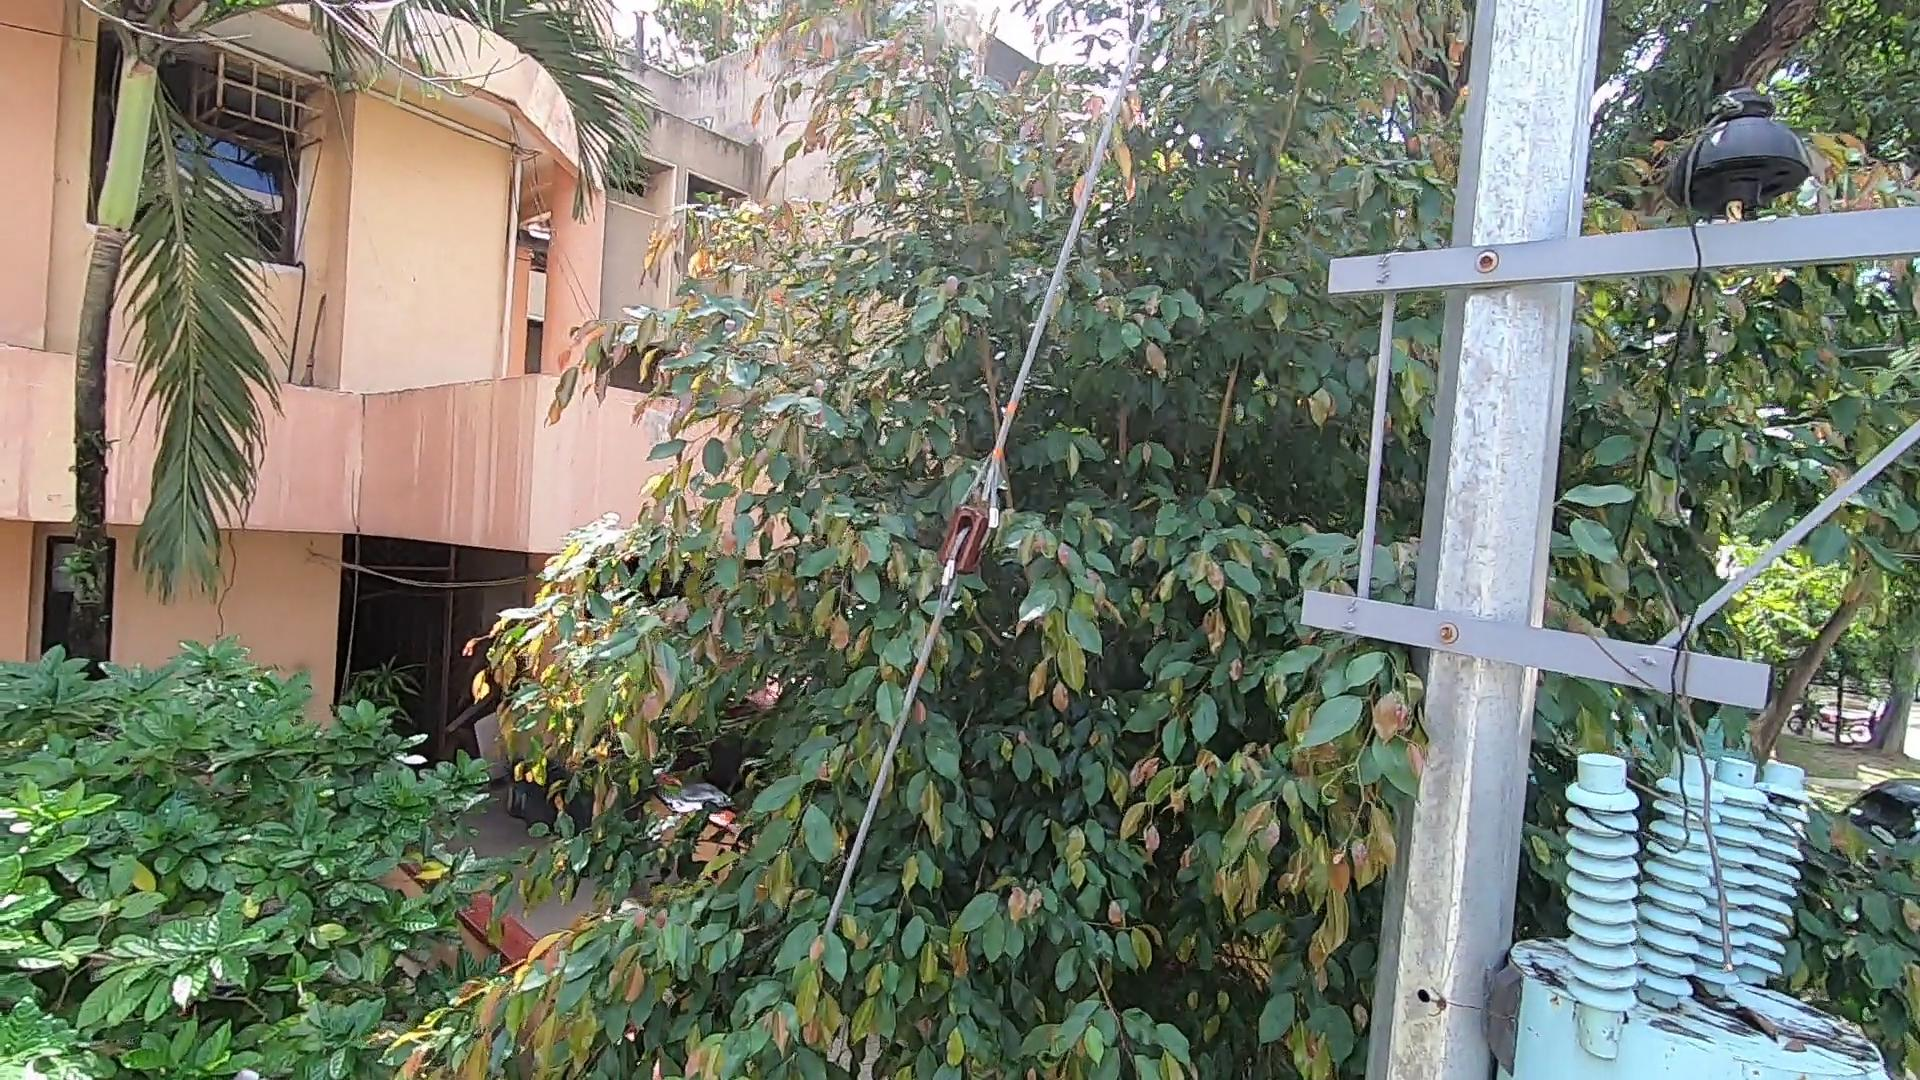leaf: (1669, 975, 1782, 1043)
tree branch: (1594, 514, 1768, 982)
